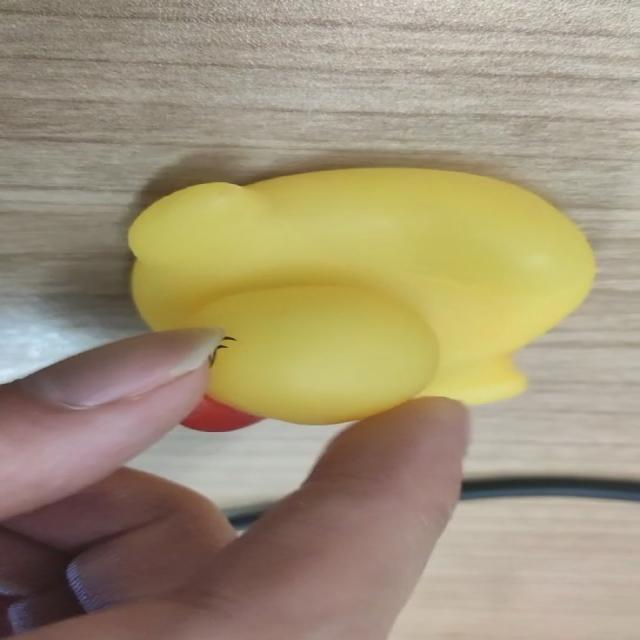rubber-duck: (128, 167, 593, 426)
